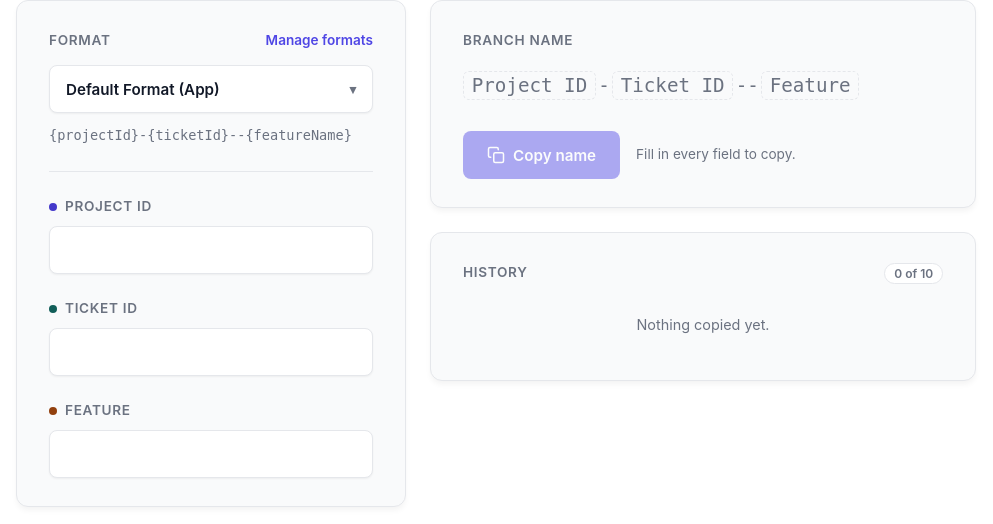
Test: AppMainView › copies the name and saves it to the history
The image size is (993, 524).
Type "web" into the field named "projectId" at {"x": 211, "y": 250}, box left=49, top=226, right=373, bottom=274
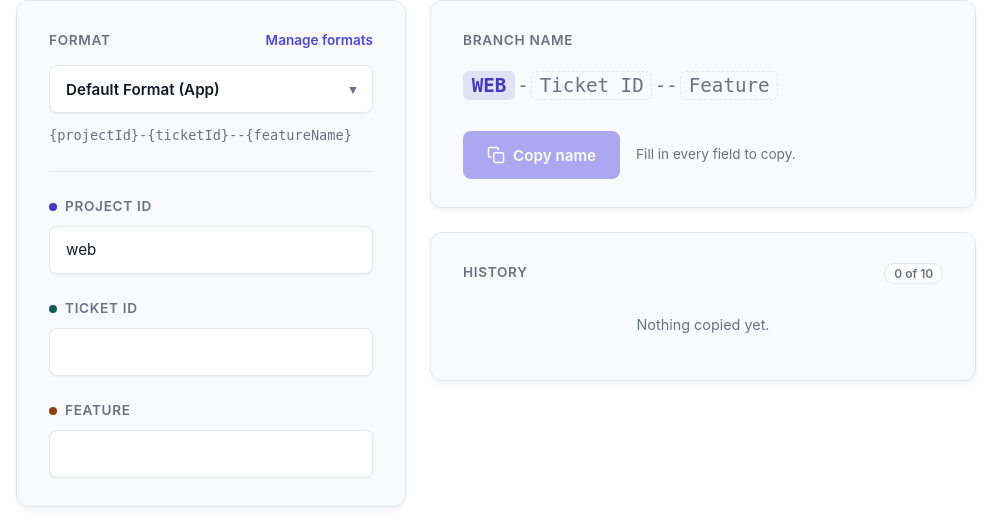
Type "487" into the field named "ticketId" at {"x": 211, "y": 352}, box left=49, top=328, right=373, bottom=376
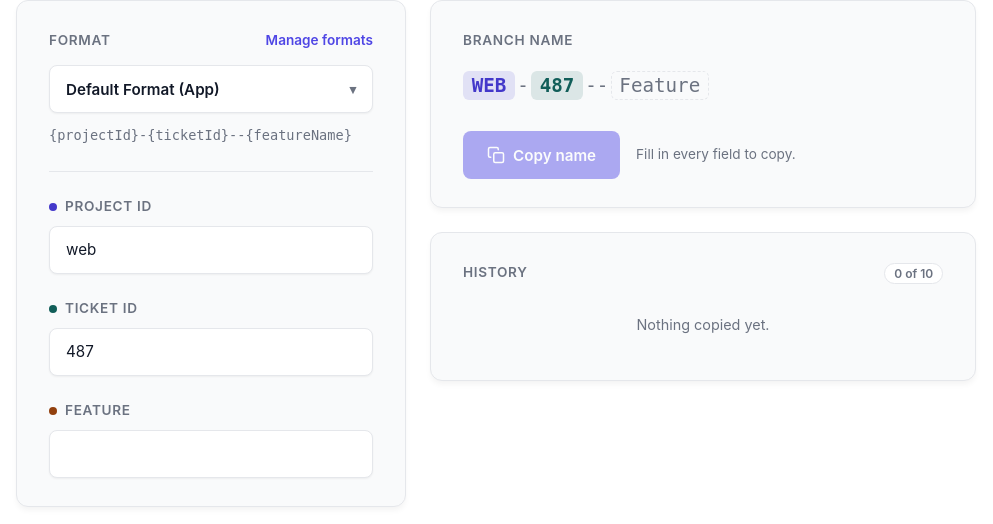
Type "Login con SSO" into the field named "featureName" at {"x": 211, "y": 454}, box left=49, top=430, right=373, bottom=478
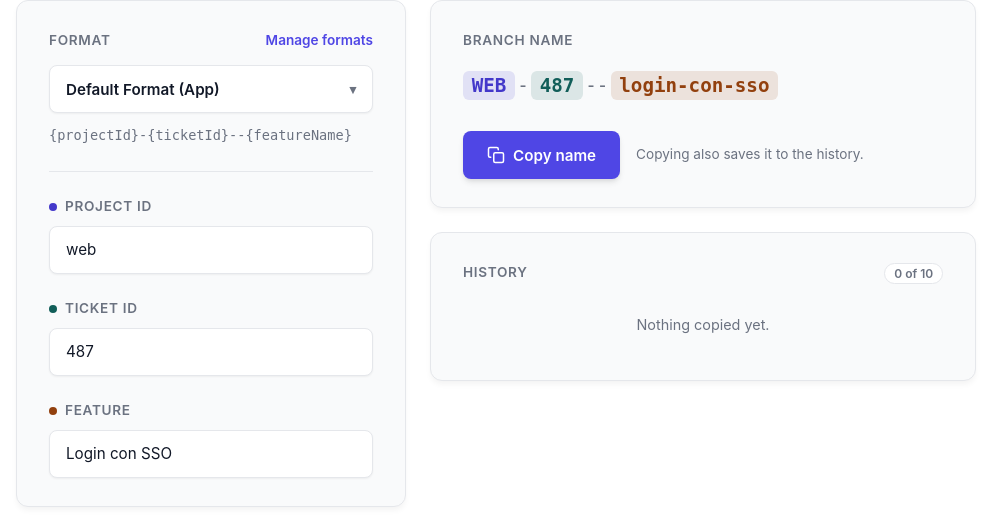
Click the button "Copy name" at {"x": 542, "y": 155}, box left=463, top=131, right=620, bottom=179
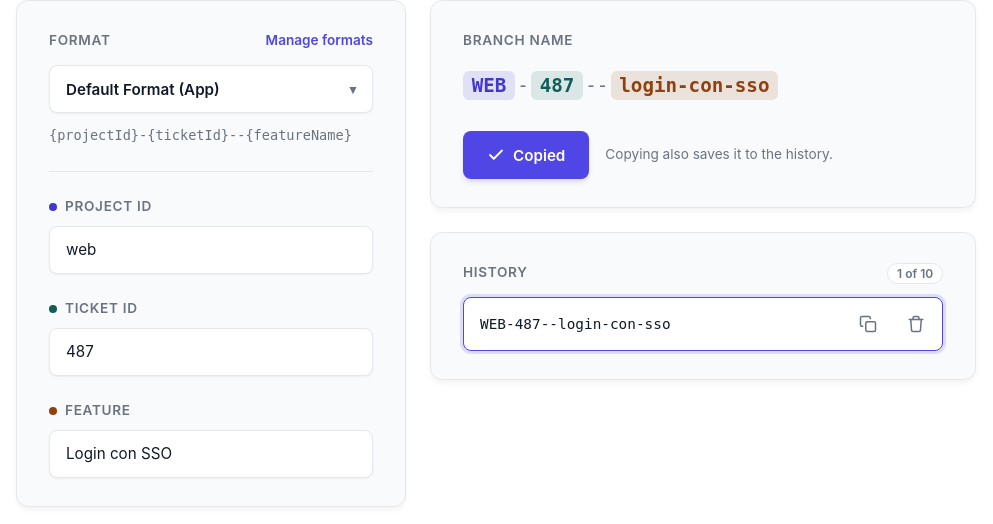
expect the text with class "hist-name" reads "WEB-487--login-con-sso": met, box left=480, top=316, right=671, bottom=332
